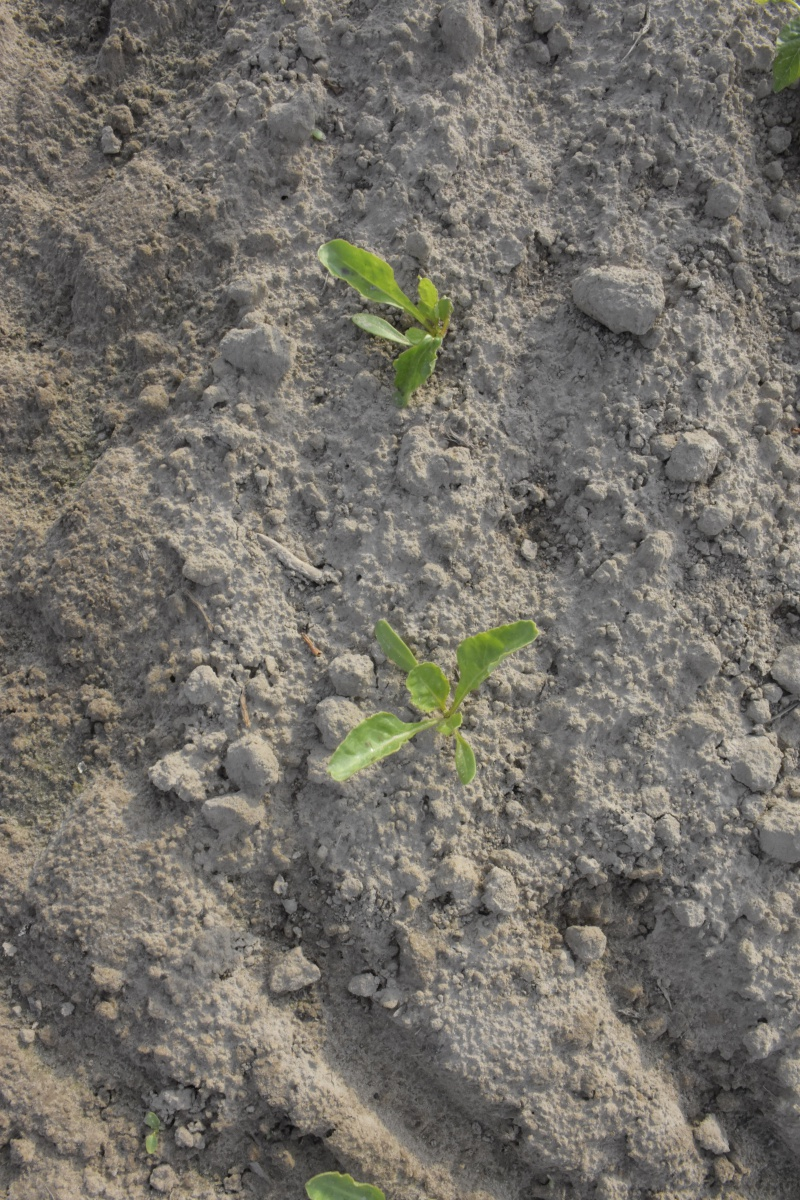sugar beet: (322, 613, 546, 801), (317, 234, 461, 408)
